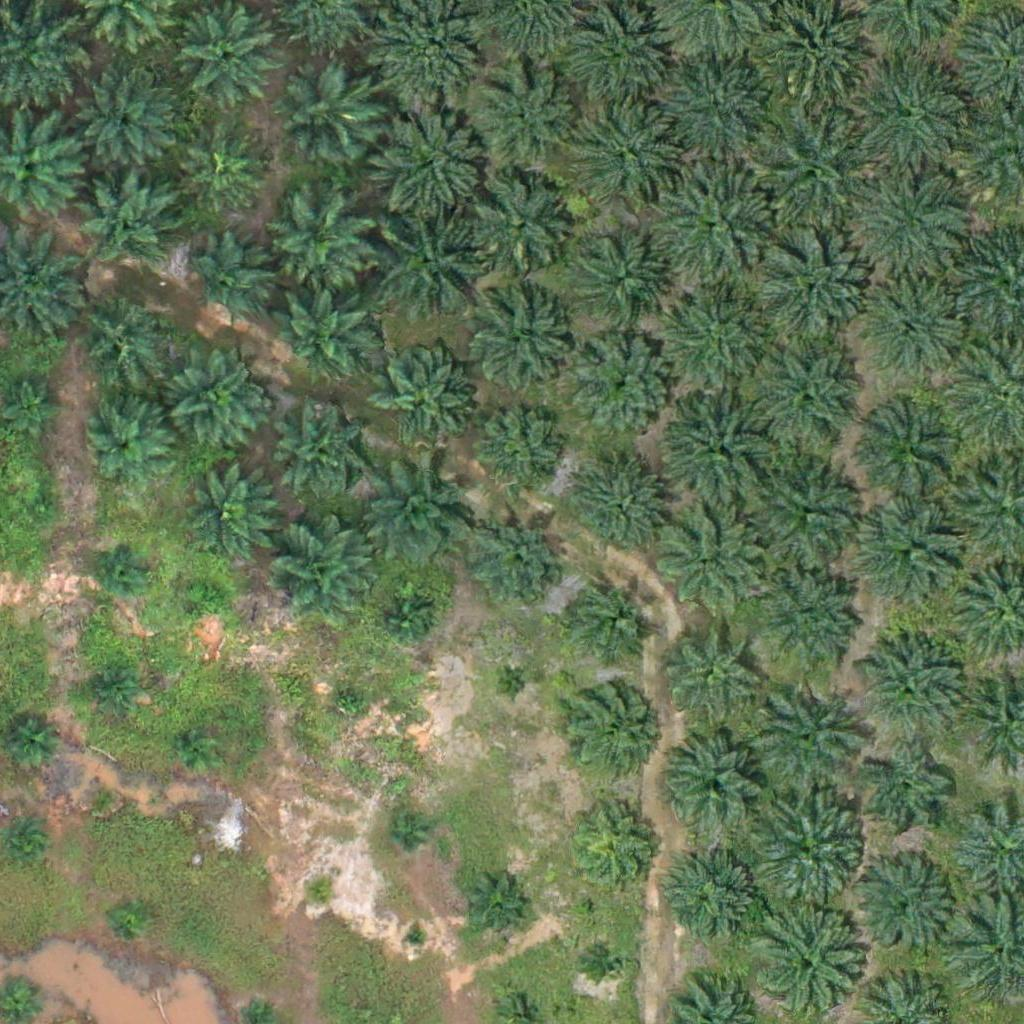Kelapa_Sawit: (654, 386, 779, 512), (651, 279, 776, 405), (651, 157, 776, 283), (751, 101, 876, 227), (752, 230, 877, 356), (745, 450, 870, 576), (847, 168, 972, 294), (848, 58, 973, 184), (365, 99, 490, 224), (743, 787, 868, 912), (654, 61, 767, 175), (374, 210, 487, 323), (365, 459, 478, 572), (750, 343, 863, 456), (855, 633, 968, 746), (752, 564, 865, 677), (749, 682, 862, 795), (857, 393, 969, 506), (654, 509, 766, 622), (272, 283, 372, 384), (167, 352, 267, 453), (78, 76, 178, 177), (78, 170, 178, 271), (71, 289, 171, 390), (373, 350, 473, 451), (470, 298, 570, 399), (468, 177, 568, 278), (473, 65, 573, 166), (581, 107, 681, 208), (574, 336, 674, 437), (570, 461, 670, 562), (858, 745, 958, 846), (853, 854, 953, 955), (656, 615, 756, 716), (667, 732, 767, 833), (664, 851, 764, 952), (559, 570, 659, 671), (561, 676, 661, 777), (566, 797, 666, 898), (272, 524, 372, 625), (280, 67, 380, 167), (268, 193, 368, 293), (179, 9, 279, 109), (869, 288, 969, 388), (863, 505, 963, 605), (175, 464, 275, 564), (187, 237, 275, 325), (180, 129, 268, 217), (274, 407, 362, 495), (577, 241, 665, 329), (85, 404, 172, 493), (474, 515, 561, 604), (473, 408, 560, 496), (461, 878, 524, 941), (1, 372, 63, 435), (2, 721, 52, 772), (380, 592, 430, 643), (86, 666, 136, 716), (99, 543, 149, 593), (189, 578, 227, 616), (180, 729, 218, 767), (332, 685, 370, 723), (494, 666, 532, 704), (300, 875, 338, 913), (591, 944, 629, 982), (23, 490, 60, 528), (384, 814, 421, 852), (81, 775, 118, 813), (7, 825, 44, 862), (112, 898, 149, 935), (403, 924, 428, 949)
